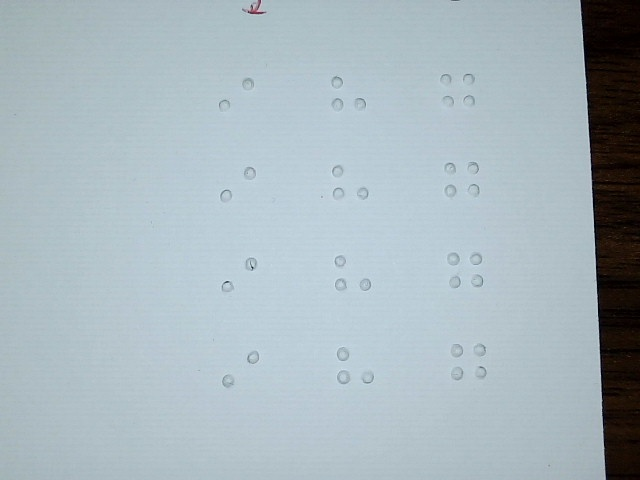G: (438, 64, 478, 129), (442, 153, 482, 218), (446, 242, 486, 307), (448, 333, 488, 398)
H: (328, 66, 368, 131), (330, 155, 370, 220), (332, 245, 372, 310), (335, 338, 375, 403)
I: (217, 68, 257, 133), (218, 154, 258, 219), (220, 339, 260, 404)
